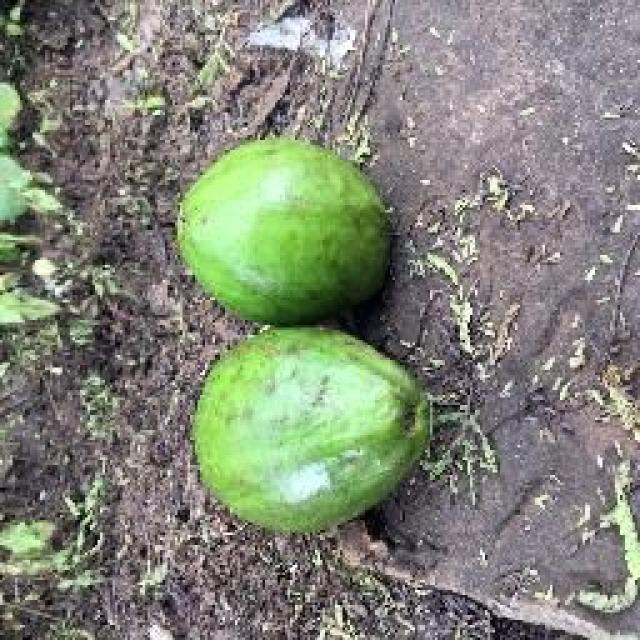Good_Guava: (192, 328, 432, 535), (175, 140, 392, 330)
